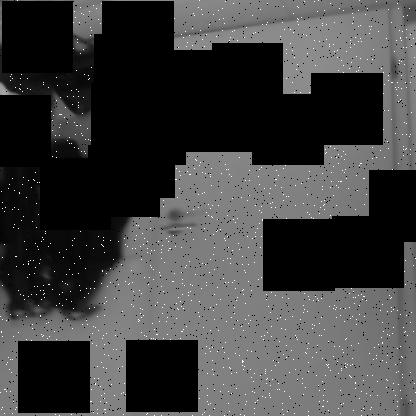Porte: (132, 1, 415, 415)
